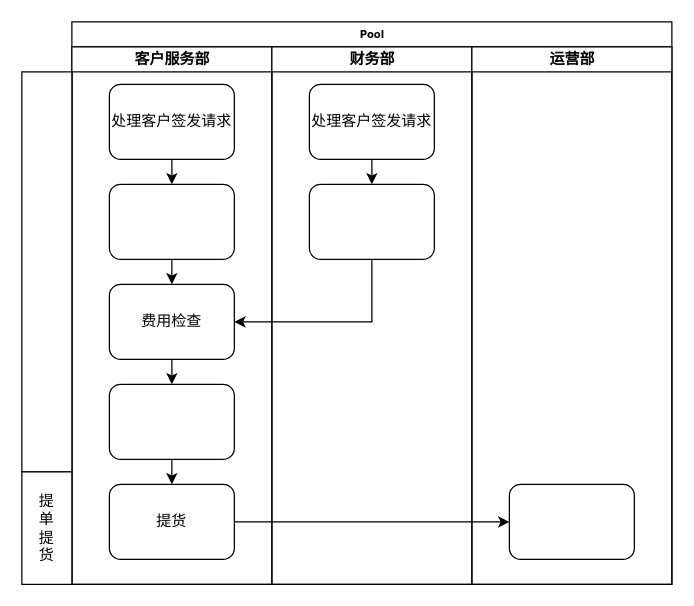
The diagram is 694 pixels wide and 606 high, and some of its shapes have lost their labels. Here are the shapes that lost their labels. From the top down, the centre of each, then its label:
pixel 171 221: 必要文件准备
pixel 371 221: 费用跟进并更新到区块链平台
pixel 46 271: 提 单 签 发
pixel 171 421: 提单签发
pixel 571 521: 释放货物
